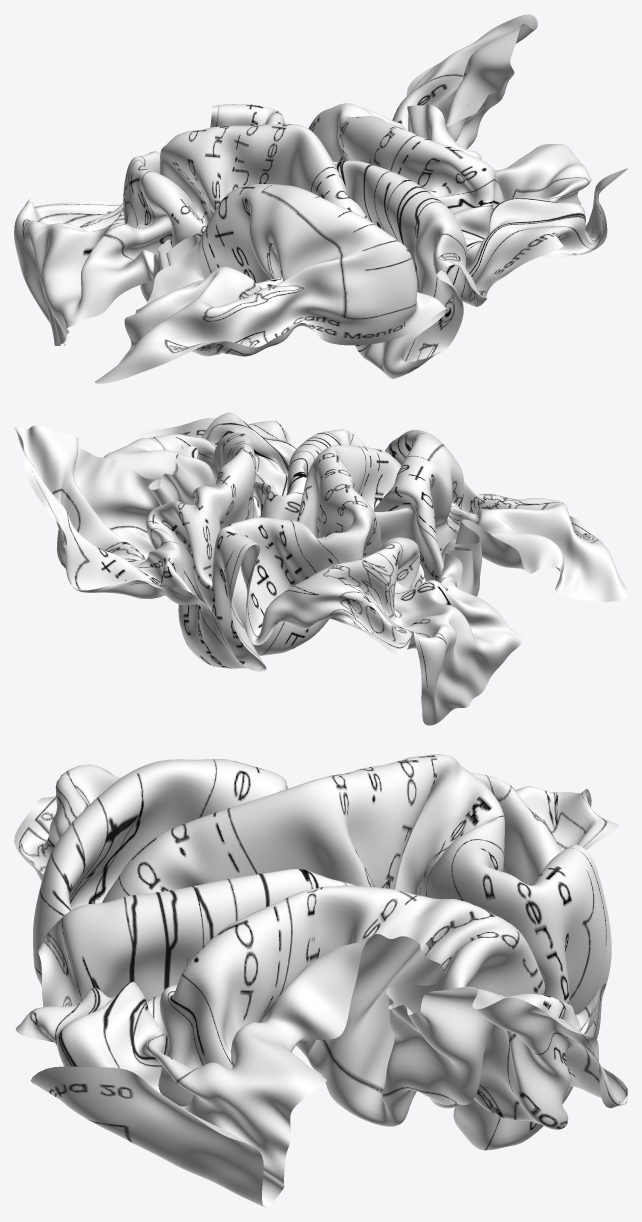
The model's file is PapelUsado.fbx.
The picture shows the model from 3 angles, top to bottom: view 1: azimuth 30°, elevation 25°; view 2: azimuth 150°, elevation 25°; view 3: azimuth 270°, elevation 25°; orthographic projection. The views are drawn at different scales.
Visible parts, largest first — view 1: Papel; view 2: Papel; view 3: Papel.
Part boxes in pixels (<box>): Papel: <box>14,14,627,383</box>; Papel: <box>14,412,627,725</box>; Papel: <box>14,754,627,1207</box>.
Bounding box in the file's own units: 98.89 × 37.19 × 62.13.
Materials: 1 (1 with a texture image).
